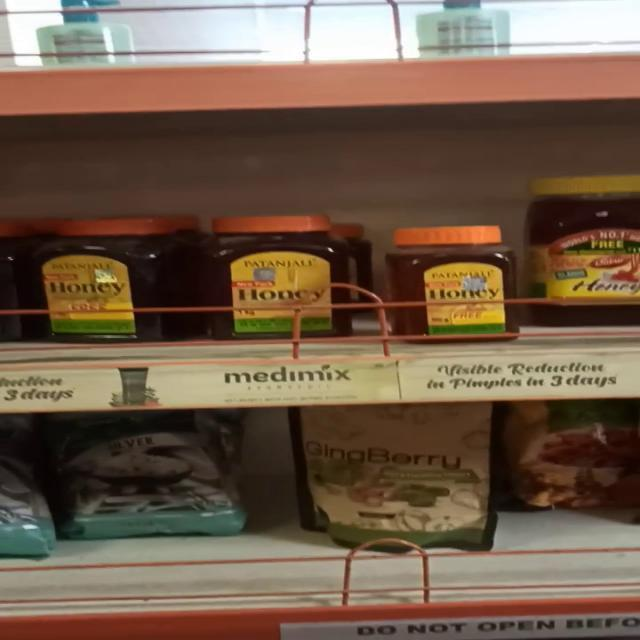Patanjali Honey: (205, 212, 362, 336), (29, 215, 178, 338), (386, 228, 528, 335)
